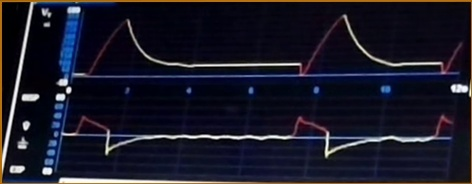Flow: (70, 108, 453, 171)
Leakage Volume: (78, 12, 464, 84)
